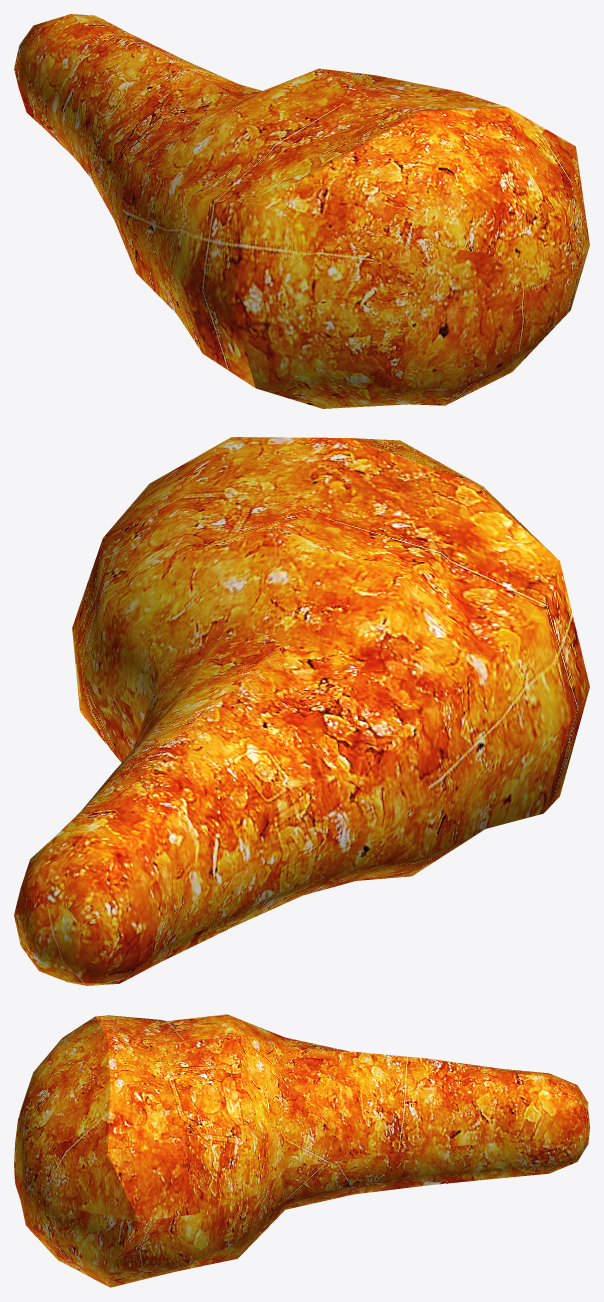
Rendered from friedchicken_00.FBX.
3 views of the same model, one above another, from view 1: azimuth 30°, elevation 25°; view 2: azimuth 150°, elevation 25°; view 3: azimuth 270°, elevation 25° (orthographic). The views are drawn at different scales.
Visible parts, largest first — view 1: Chicken_Fried00; view 2: Chicken_Fried00; view 3: Chicken_Fried00.
Part boxes in pixels (x1,y1,x2,y2): Chicken_Fried00: [14, 14, 589, 408]; Chicken_Fried00: [14, 437, 589, 985]; Chicken_Fried00: [14, 1014, 589, 1287].
Size of the model in its own units: 21.43 by 35.01 by 15.62.
1 material, 1 textured.
